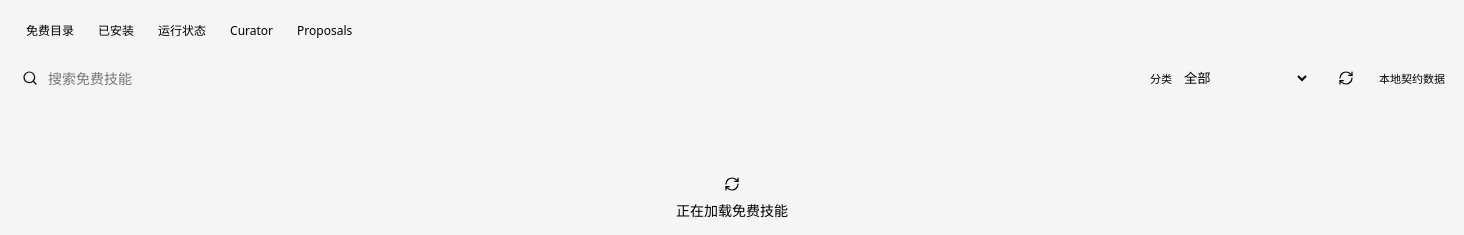
Test case: SkillManager › shows USB-installed Skills independently from the remote catalog
Click the tab "已安装".
click(116, 30)  # box [87,15,145,45]
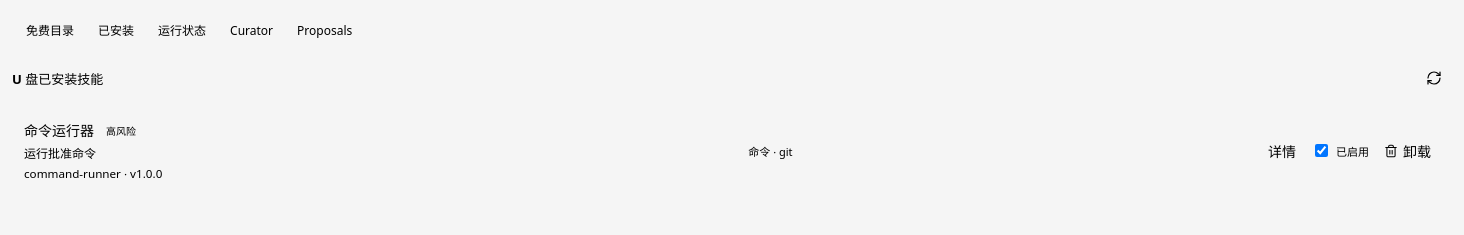
Expected: the text "命令运行器" is shown, [24,120,94,140]
